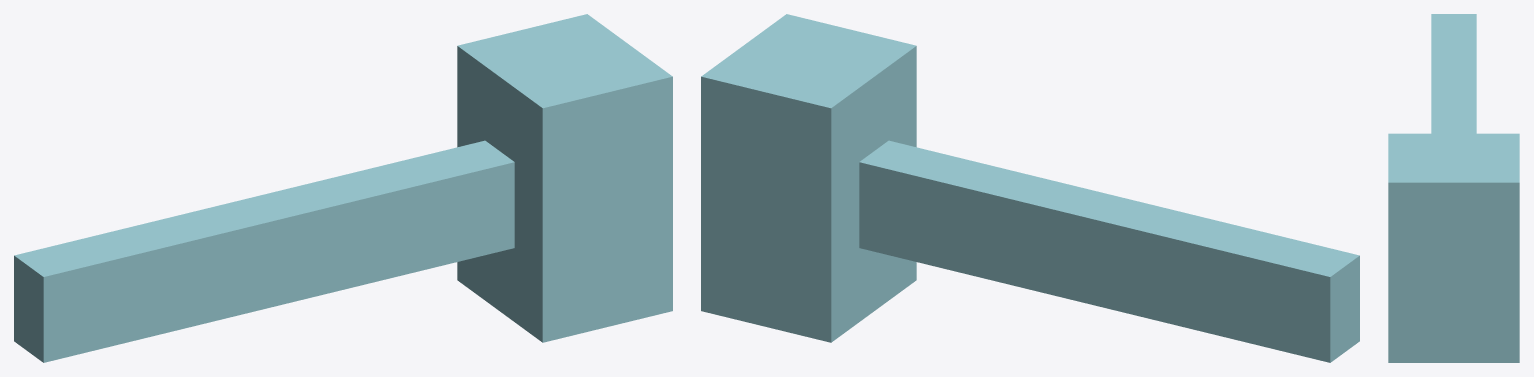
File: cuboid_hammer_v006.obj
3 renders of one model, left to right at view 1: azimuth 30°, elevation 25°; view 2: azimuth 150°, elevation 25°; view 3: azimuth 270°, elevation 25°, orthographic. The views are drawn at different scales.
Size of the model in its own units: 0.2163 by 0.0806 by 0.0533.
Materials: 1 (1 with a texture image).
